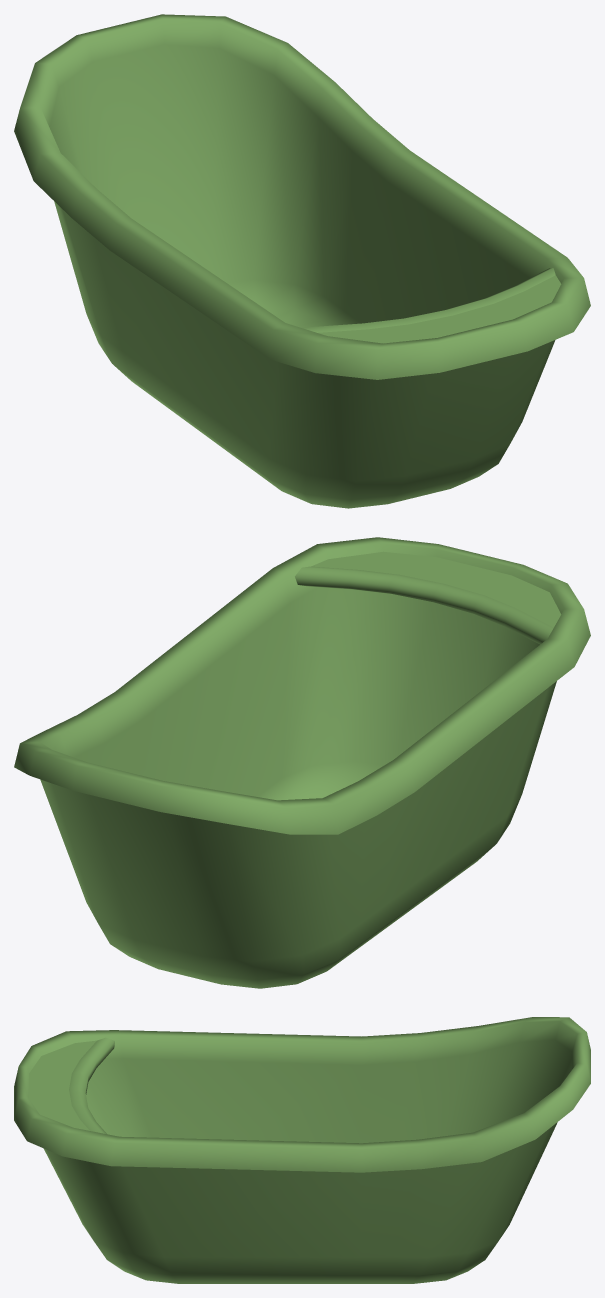
Rendered from BabyTub_01.fbx.
The picture shows the model from 3 angles, top to bottom: view 1: azimuth 30°, elevation 25°; view 2: azimuth 150°, elevation 25°; view 3: azimuth 270°, elevation 25°; orthographic projection. The views are drawn at different scales.
Visible parts, largest first — view 1: BabyTub_01; view 2: BabyTub_01; view 3: BabyTub_01.
Boxes of the visible parts, x1,y1,x2,y2 form: BabyTub_01: (14, 14, 590, 508); BabyTub_01: (14, 537, 590, 988); BabyTub_01: (14, 1017, 590, 1283).
Size of the model in its own units: 0.4035 by 0.3277 by 0.8423.
